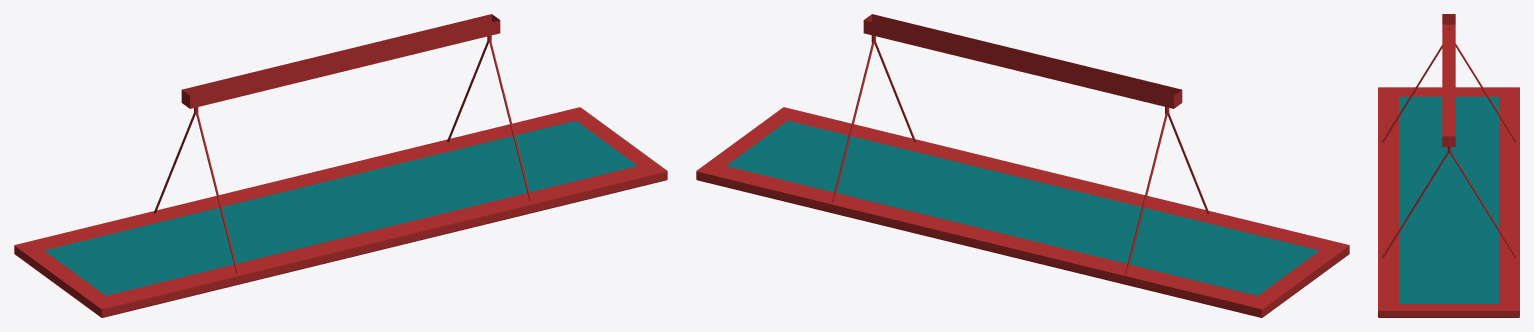
File: SM_Lamp_005.fbx
3 views of the same model, side by side, from view 1: azimuth 30°, elevation 25°; view 2: azimuth 150°, elevation 25°; view 3: azimuth 270°, elevation 25° (orthographic). The views are drawn at different scales.
Parts seen in each view (by area): view 1: SM_Lamp_005; view 2: SM_Lamp_005; view 3: SM_Lamp_005.
Boxes of the visible parts, x1=… form: SM_Lamp_005: x1=14, y1=14, x2=667, y2=317; SM_Lamp_005: x1=696, y1=14, x2=1349, y2=317; SM_Lamp_005: x1=1378, y1=14, x2=1519, y2=317.
Bounding box in the file's own units: 120 × 32.96 × 32.24.
